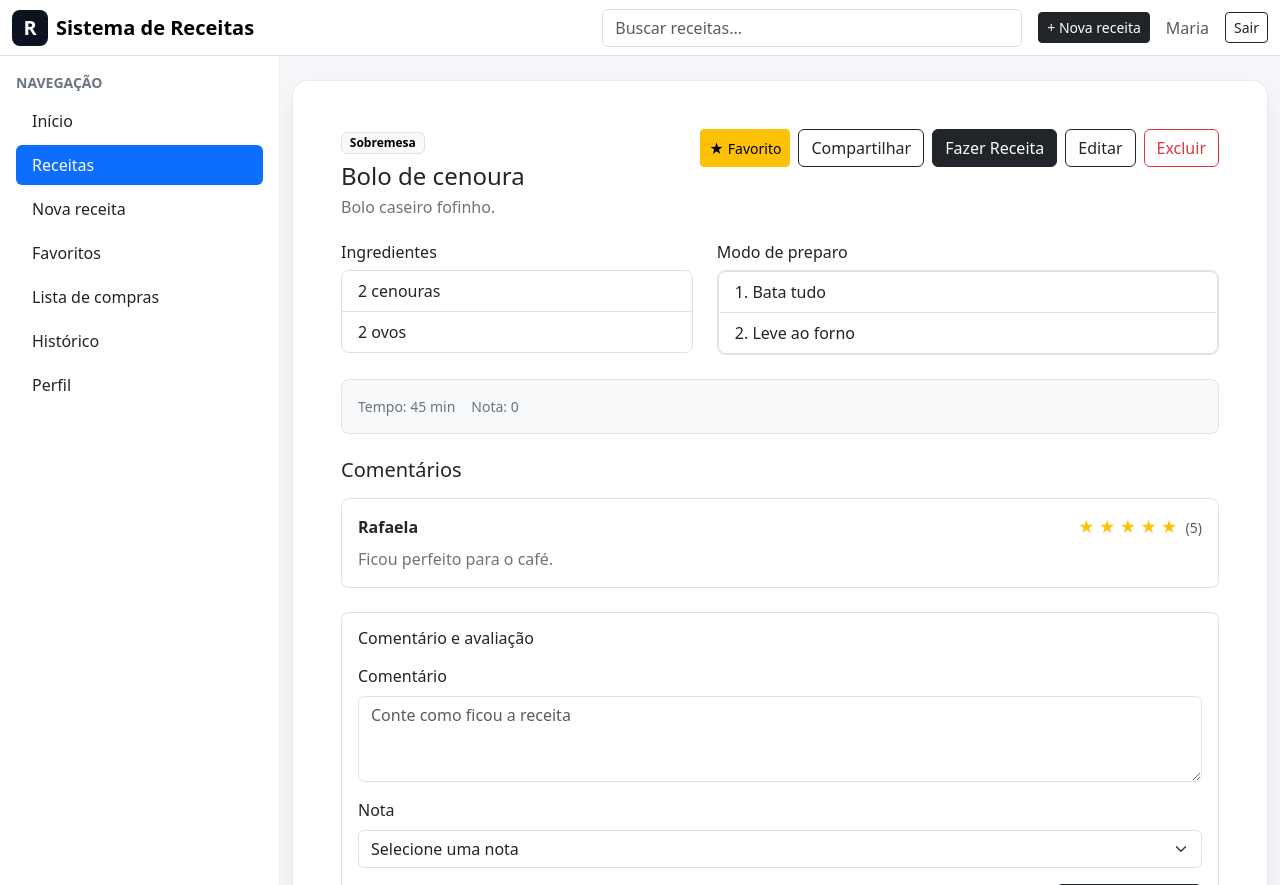
Test case: recipe details › toggles favorite status from recipe details
The width and height of the screenshot is (1280, 885).
Expected: the heading "Bolo de cenoura" is shown, [341, 162, 525, 191]
Click the button with aria-label "remover dos favoritos bolo de cenoura": coordinates (745, 148) [700, 129, 790, 167]
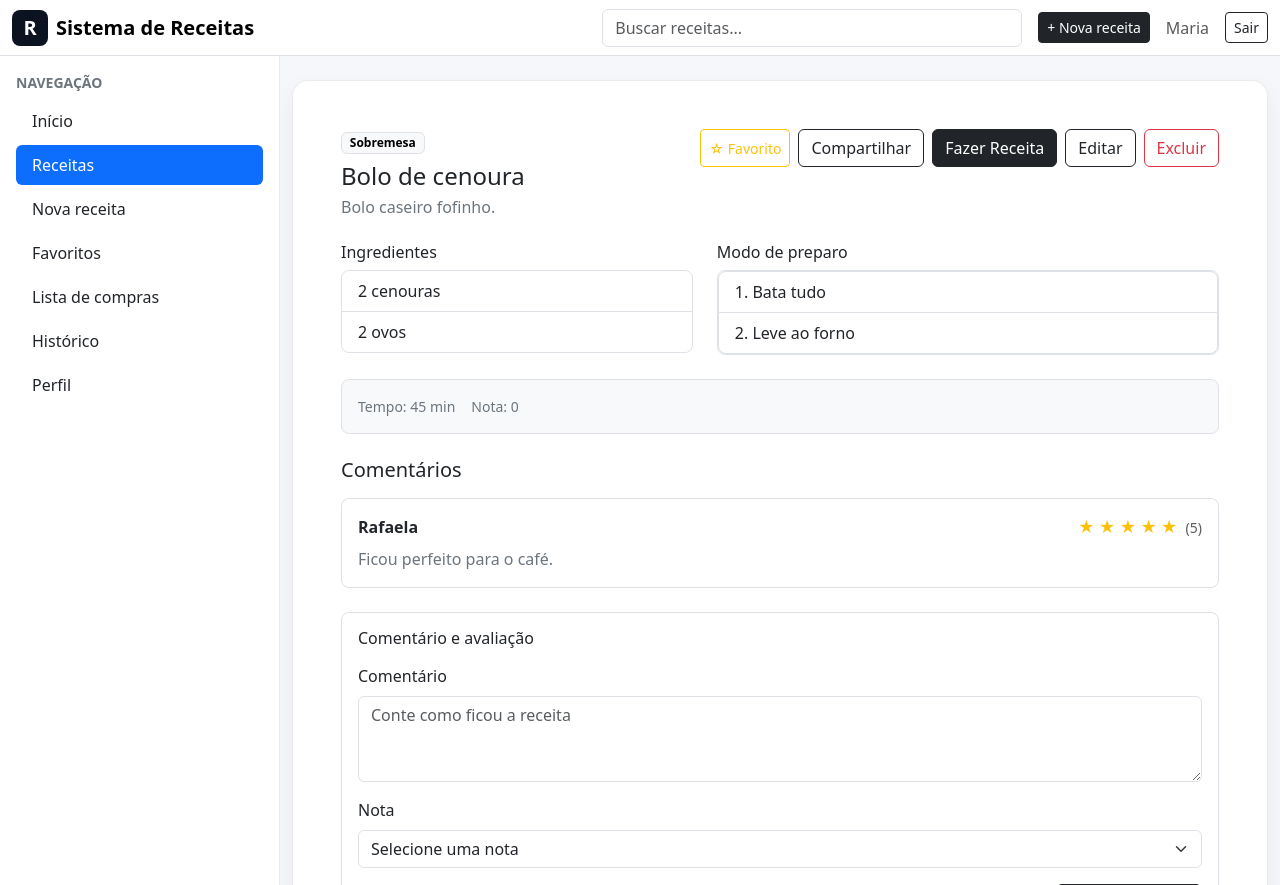
Expected: the button with aria-label "favoritar bolo de cenoura" is shown, [700, 129, 790, 167]
